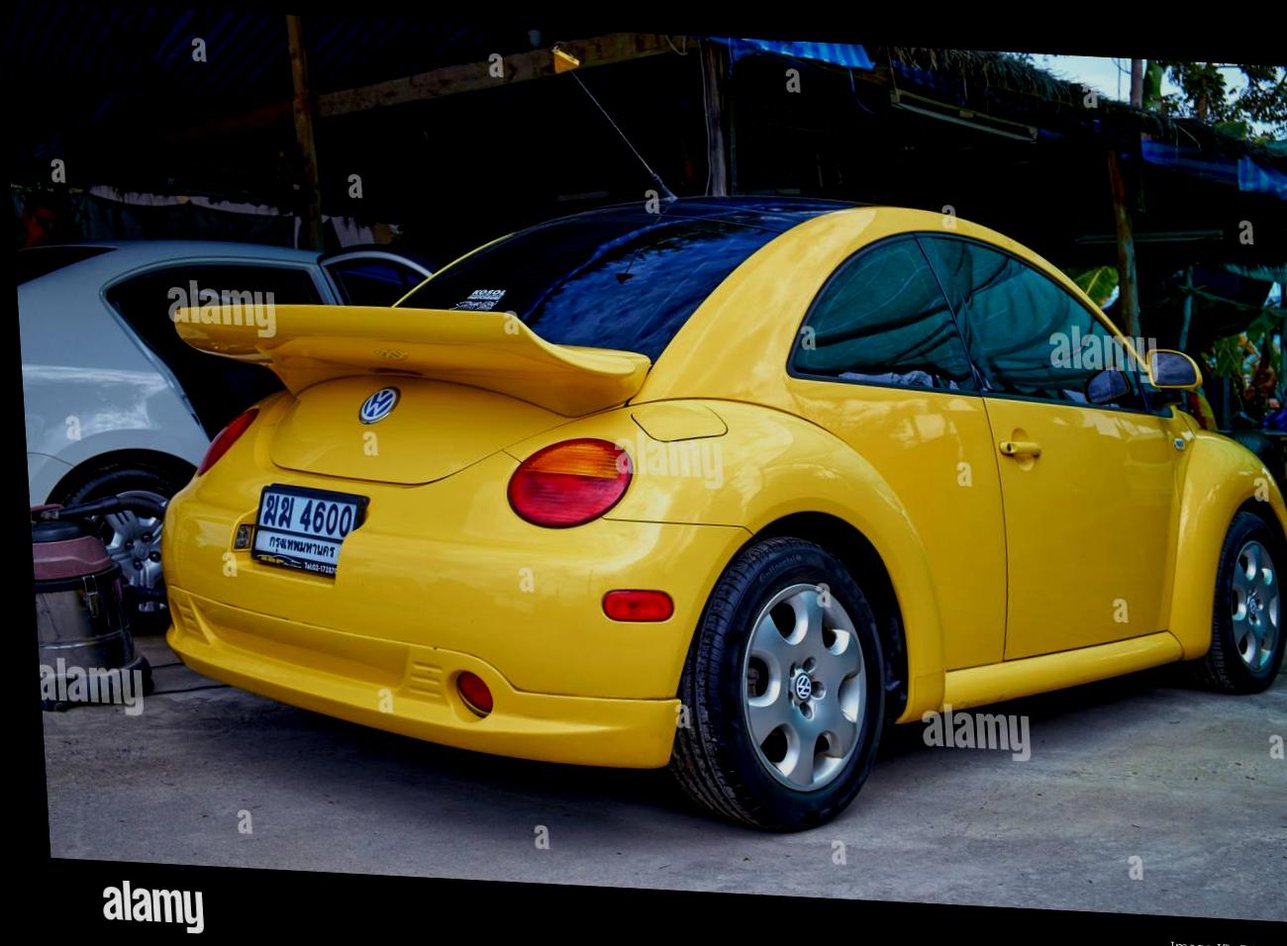License_Plate: (233, 456, 393, 601)
